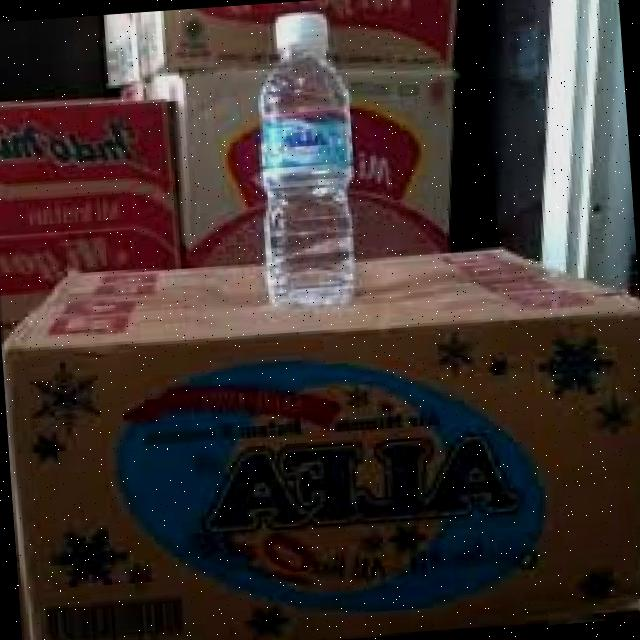bottle: (178, 0, 426, 329)
cap: (272, 5, 334, 53)
label: (252, 114, 352, 171)
